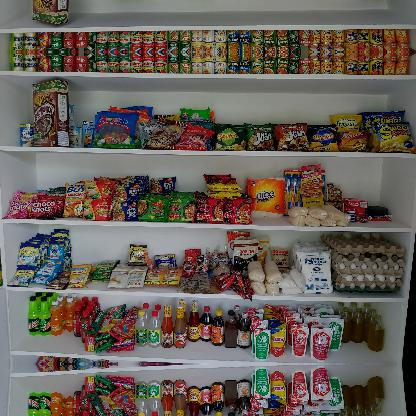Koko-Krunch: (32, 78, 72, 147), (32, 0, 72, 26)
